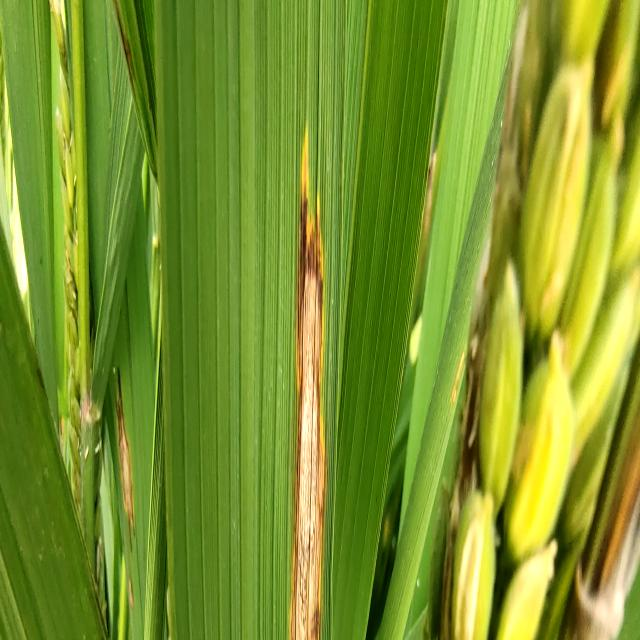LEAF BLAST: (290, 179, 325, 640)
